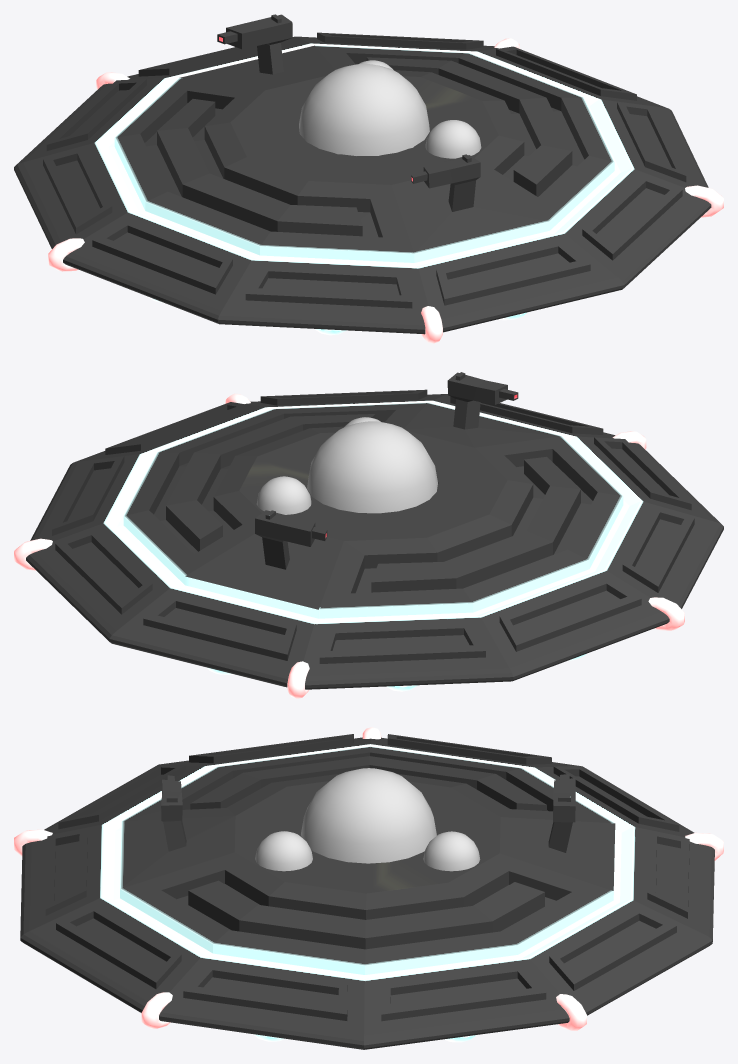
File: AlienEnemyBoss.fbx
3 renders of one model, top to bottom at view 1: azimuth 30°, elevation 25°; view 2: azimuth 150°, elevation 25°; view 3: azimuth 270°, elevation 25°, orthographic. The views are drawn at different scales.
Visible parts, largest first — view 1: Cylinder, Glass, Lights, Glass3; view 2: Cylinder, Glass, Lights, Glass2; view 3: Cylinder, Glass, Lights, Glass3, Glass2.
Boxes of the visible parts, bbox=[...] form: Cylinder: bbox=[14, 14, 711, 334]; Glass: bbox=[299, 63, 429, 155]; Lights: bbox=[48, 38, 723, 343]; Glass3: bbox=[425, 120, 481, 158]; Cylinder: bbox=[26, 372, 723, 689]; Glass: bbox=[307, 421, 437, 513]; Lights: bbox=[14, 393, 684, 698]; Glass2: bbox=[256, 476, 311, 514]; Cylinder: bbox=[20, 734, 714, 1049]; Glass: bbox=[301, 768, 436, 863]; Lights: bbox=[14, 727, 723, 1030]; Glass3: bbox=[255, 831, 312, 871]; Glass2: bbox=[423, 831, 480, 871].
Bounding box in the file's own units: 814 × 182 × 784.
6 materials, 3 textured.
